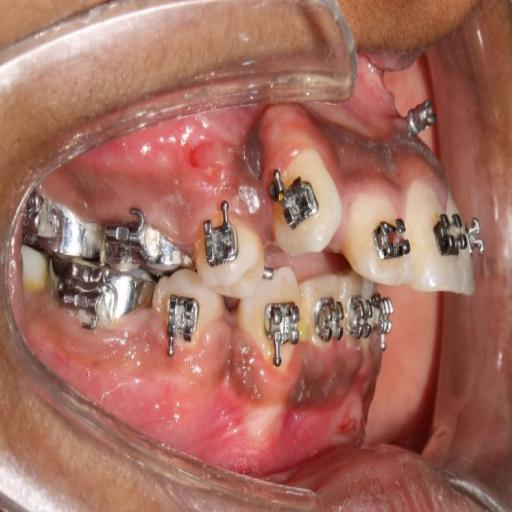correct_brace: (201, 186, 259, 303), (155, 281, 219, 366), (365, 203, 410, 281), (272, 168, 320, 241), (164, 289, 206, 355)
incorrect_brace: (346, 178, 412, 287), (204, 197, 243, 277)
